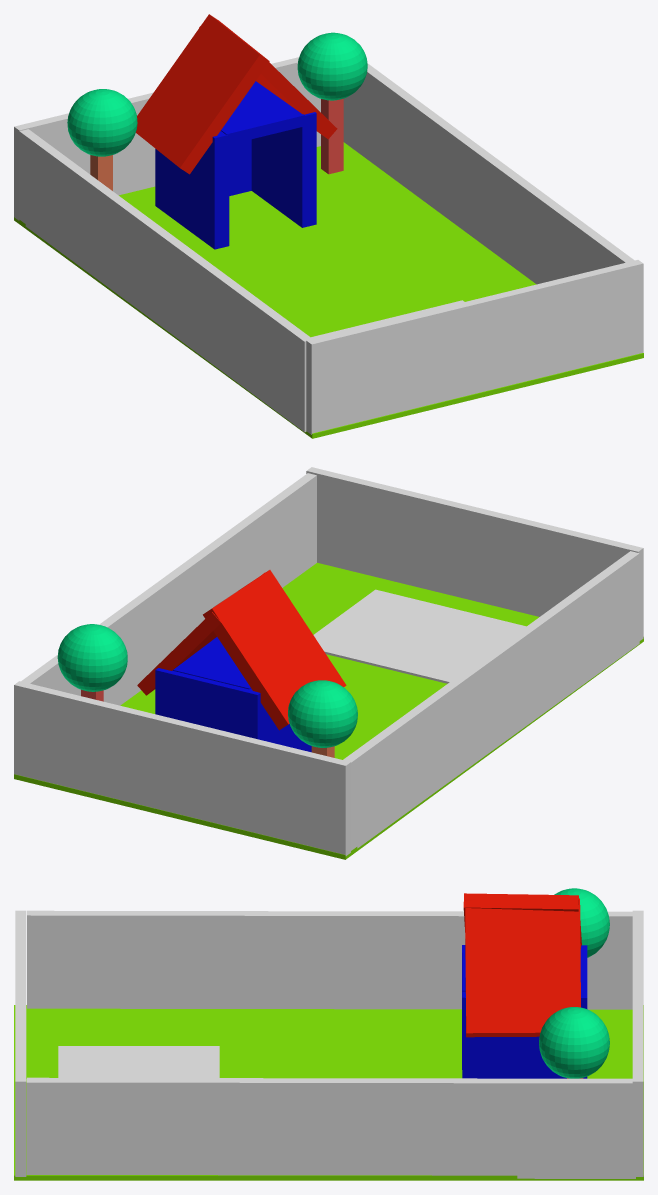
Rendered from mapa.fbx.
The picture shows the model from 3 angles, top to bottom: view 1: azimuth 30°, elevation 25°; view 2: azimuth 150°, elevation 25°; view 3: azimuth 270°, elevation 25°; orthographic projection. The views are drawn at different scales.
Parts seen in each view (by area): view 1: Cube, Cubo.009, Cubo.011, Cubo.012, Cubo.006, Cubo.004, Cubo.005, Cubo.010, Esfera UV, Esfera UV.001, Cubo.007, Cubo.002 (+3 smaller); view 2: Cubo.010, Cubo.011, Cubo.009, Cubo.012, Cube, Cubo.008, Cubo.006, Cubo, Esfera UV.001, Esfera UV, Cubo.007, Cubo.002 (+1 smaller); view 3: Cubo.012, Cubo.011, Cube, Cubo.002, Cubo.008, Esfera UV, Cubo.005, Cubo.009, Cubo.010, Cubo.006, Esfera UV.001.
Boxes of the visible parts, bbox=[...] form: Cube: bbox=[14, 142, 643, 438]; Cubo.009: bbox=[306, 260, 643, 434]; Cubo.011: bbox=[19, 129, 312, 432]; Cubo.012: bbox=[343, 63, 634, 284]; Cubo.006: bbox=[136, 14, 269, 174]; Cubo.004: bbox=[156, 131, 229, 249]; Cubo.005: bbox=[251, 112, 316, 227]; Cubo.010: bbox=[14, 57, 320, 220]; Esfera UV: bbox=[297, 32, 367, 100]; Esfera UV.001: bbox=[67, 89, 137, 156]; Cubo.007: bbox=[221, 81, 304, 144]; Cubo.002: bbox=[199, 26, 337, 139]; Cubo.010: bbox=[14, 681, 350, 855]; Cubo.011: bbox=[343, 551, 639, 850]; Cubo.009: bbox=[306, 467, 643, 640]; Cubo.012: bbox=[21, 473, 316, 705]; Cube: bbox=[14, 562, 643, 859]; Cubo.008: bbox=[313, 589, 526, 683]; Cubo.006: bbox=[203, 570, 346, 730]; Cubo: bbox=[155, 668, 257, 739]; Esfera UV.001: bbox=[288, 680, 357, 747]; Esfera UV: bbox=[57, 624, 127, 691]; Cubo.007: bbox=[173, 637, 250, 689]; Cubo.002: bbox=[137, 572, 264, 695]; Cubo.012: bbox=[26, 1077, 635, 1178]; Cubo.011: bbox=[27, 910, 632, 1009]; Cube: bbox=[14, 1005, 643, 1180]; Cubo.002: bbox=[465, 898, 580, 1037]; Cubo.008: bbox=[58, 1046, 219, 1077]; Esfera UV: bbox=[539, 1007, 609, 1078]; Cubo.005: bbox=[462, 990, 586, 1078]; Cubo.009: bbox=[15, 910, 26, 1176]; Cubo.010: bbox=[632, 910, 643, 1176]; Cubo.006: bbox=[463, 893, 581, 948]; Esfera UV.001: bbox=[554, 888, 609, 957].
Bounding box in the file's own units: 1767 × 955 × 2738.
